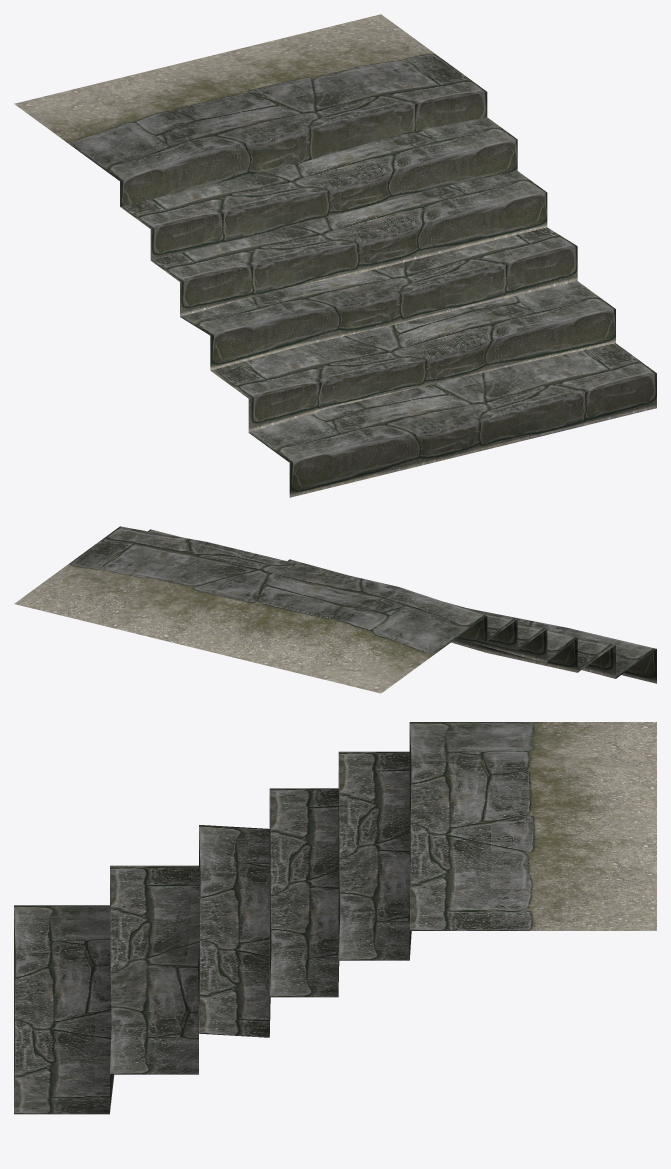
File: Steps A.fbx
The picture shows the model from 3 angles, top to bottom: view 1: azimuth 30°, elevation 25°; view 2: azimuth 150°, elevation 25°; view 3: azimuth 270°, elevation 25°; orthographic projection. The views are drawn at different scales.
Visible parts, largest first — view 1: Steps A; view 2: Steps A; view 3: Steps A.
Boxes of the visible parts, <box> form: Steps A: <box>14,14,656,497</box>; Steps A: <box>14,526,656,693</box>; Steps A: <box>14,722,656,1114</box>.
Bounding box in the file's own units: 4 × 2.09 × 5.2.
